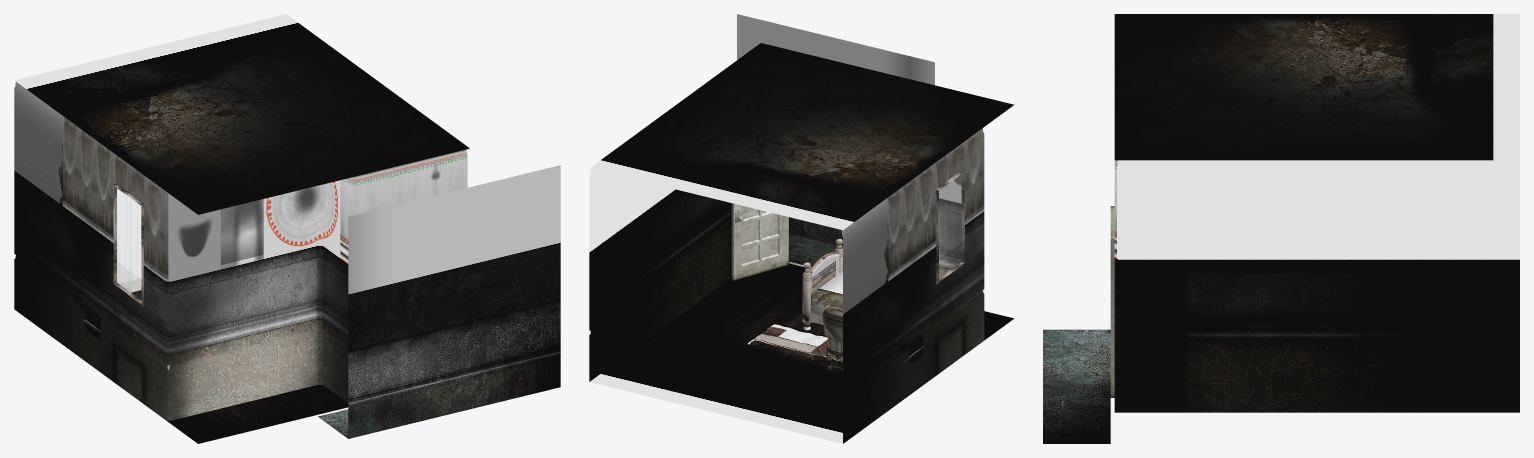
3 views of the same model, side by side, from view 1: azimuth 30°, elevation 25°; view 2: azimuth 150°, elevation 25°; view 3: azimuth 270°, elevation 25° (orthographic). The views are drawn at different scales.
Parts seen in each view (by area): view 1: qp01; view 2: qp01; view 3: qp01.
Part boxes in pixels (x1=…): qp01: x1=14, y1=14, x2=560, y2=443; qp01: x1=589, y1=14, x2=1014, y2=443; qp01: x1=1043, y1=14, x2=1519, y2=443.
Bounding box in the file's own units: 2500 × 1653 × 2824.
